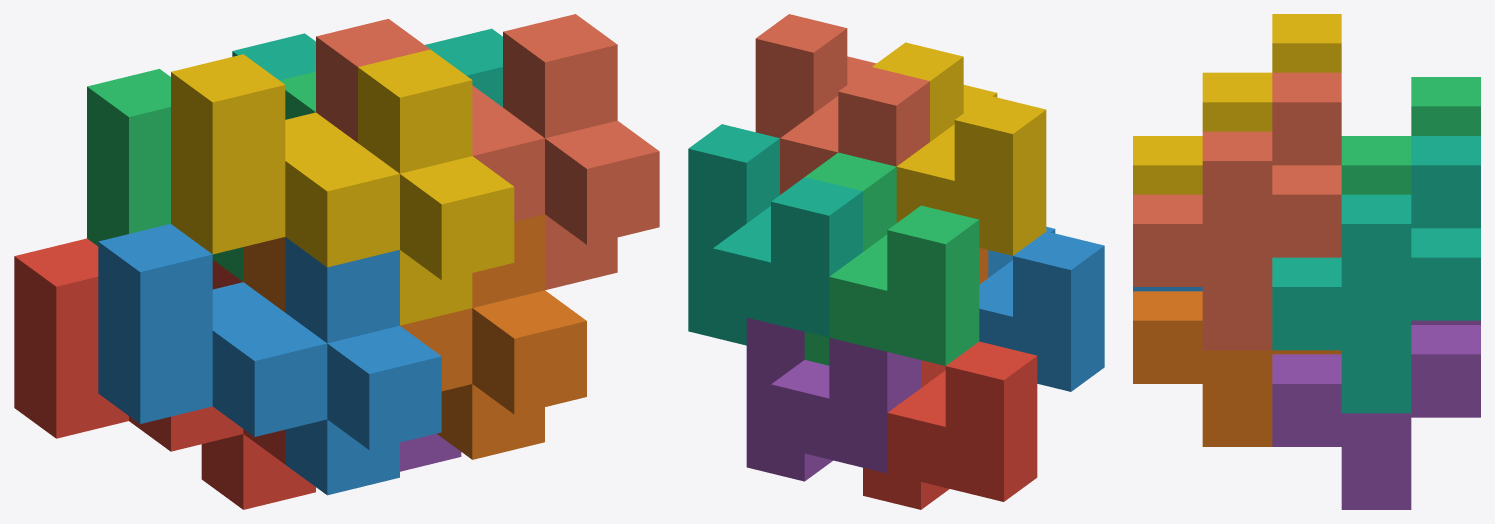
Rendered from tiling.obj.
The picture shows the model from 3 angles, left to right: view 1: azimuth 30°, elevation 25°; view 2: azimuth 150°, elevation 25°; view 3: azimuth 270°, elevation 25°; orthographic projection. The views are drawn at different scales.
Visible parts, largest first — view 1: copy_1_domain_4, copy_1_domain_2, copy_1_domain_8, copy_1_domain_6, copy_1_domain_1, copy_1_domain_3, copy_1_domain_7, copy_1_domain_5; view 2: copy_1_domain_7, copy_1_domain_3, copy_1_domain_1, copy_1_domain_4, copy_1_domain_5, copy_1_domain_8, copy_1_domain_2; view 3: copy_1_domain_8, copy_1_domain_7, copy_1_domain_5, copy_1_domain_6, copy_1_domain_4, copy_1_domain_3.
Part boxes in pixels (bbox=[...]): copy_1_domain_4: bbox=[171, 49, 514, 325]; copy_1_domain_2: bbox=[98, 224, 441, 495]; copy_1_domain_8: bbox=[316, 14, 659, 290]; copy_1_domain_6: bbox=[243, 214, 586, 459]; copy_1_domain_1: bbox=[14, 238, 315, 509]; copy_1_domain_3: bbox=[87, 69, 315, 281]; copy_1_domain_7: bbox=[232, 28, 502, 107]; copy_1_domain_5: bbox=[400, 433, 461, 471]; copy_1_domain_7: bbox=[688, 124, 862, 345]; copy_1_domain_3: bbox=[804, 152, 979, 365]; copy_1_domain_1: bbox=[863, 341, 1037, 509]; copy_1_domain_4: bbox=[872, 42, 1046, 255]; copy_1_domain_5: bbox=[746, 317, 920, 481]; copy_1_domain_8: bbox=[755, 14, 929, 194]; copy_1_domain_2: bbox=[979, 226, 1104, 391]; copy_1_domain_8: bbox=[1133, 72, 1341, 350]; copy_1_domain_7: bbox=[1272, 136, 1480, 413]; copy_1_domain_5: bbox=[1272, 320, 1480, 509]; copy_1_domain_6: bbox=[1133, 291, 1341, 446]; copy_1_domain_4: bbox=[1133, 14, 1341, 194]; copy_1_domain_3: bbox=[1341, 77, 1480, 194].
Size of the model in its own units: 6 by 6 by 5.
